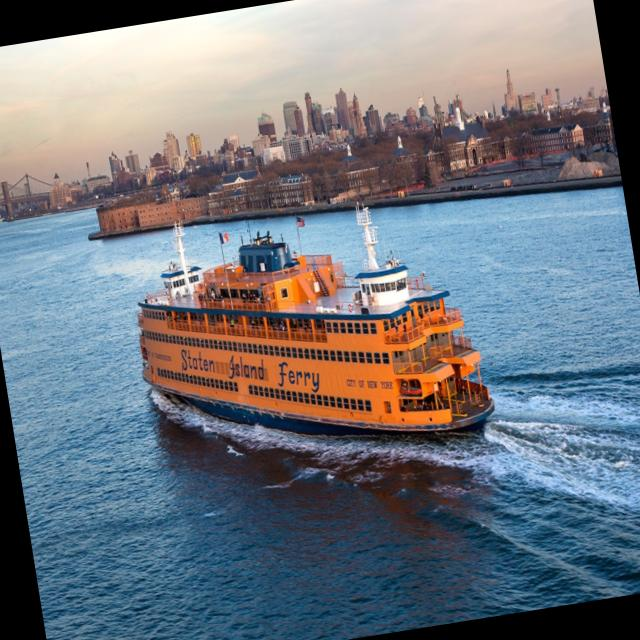boat: (100, 149, 515, 516)
